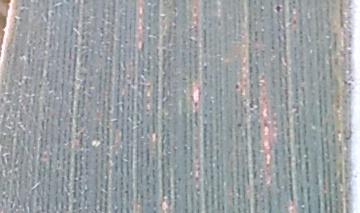tarspot: (345, 126, 353, 142), (273, 3, 284, 14), (343, 78, 354, 87), (249, 97, 255, 111), (234, 82, 241, 91), (236, 122, 243, 129), (123, 39, 130, 45), (348, 88, 353, 94)
